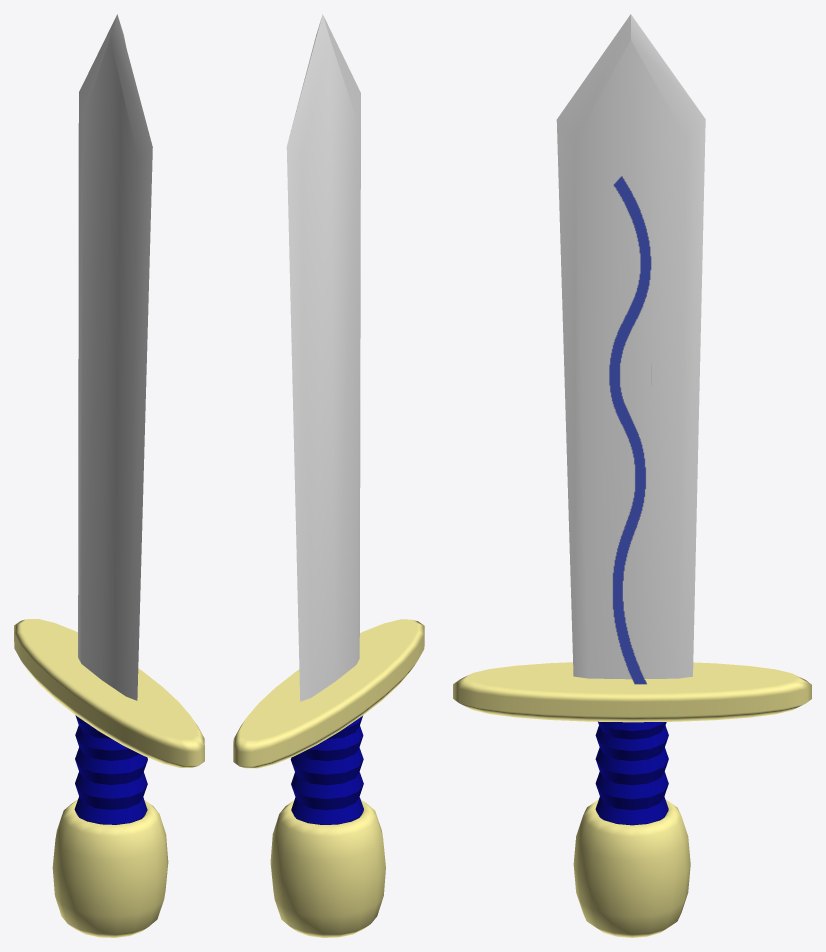
The model's file is findwaffle_sword_small.glb.
3 renders of one model, left to right at view 1: azimuth 30°, elevation 25°; view 2: azimuth 150°, elevation 25°; view 3: azimuth 270°, elevation 25°, orthographic.
Parts seen in each view (by area): view 1: Cube 12, Torus 3, Cylinder 2, Merged Geometry; view 2: Cube 12, Torus 3, Cylinder 2, Merged Geometry; view 3: Cube 12, Cylinder 2, Torus 3, Merged Geometry, image.png.
Boxes of the visible parts, bbox=[...] form: Cube 12: bbox=[78, 14, 152, 700]; Torus 3: bbox=[52, 799, 168, 937]; Cylinder 2: bbox=[14, 619, 204, 767]; Merged Geometry: bbox=[74, 715, 147, 824]; Cube 12: bbox=[286, 14, 360, 701]; Torus 3: bbox=[270, 799, 385, 937]; Cylinder 2: bbox=[233, 619, 424, 768]; Merged Geometry: bbox=[290, 716, 363, 824]; Cube 12: bbox=[556, 14, 705, 679]; Cylinder 2: bbox=[453, 662, 811, 722]; Torus 3: bbox=[573, 799, 690, 937]; Merged Geometry: bbox=[595, 721, 668, 825]; image.png: bbox=[609, 176, 651, 684].
Size of the model in its own units: 0.0409 by 0.3508 by 0.1253.
4 materials, 1 textured.
